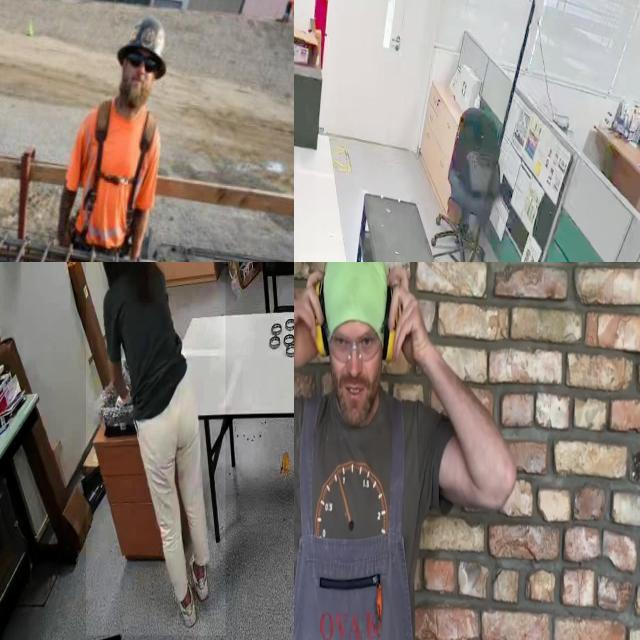Ear-protection: (306, 262, 409, 427)
Harness: (85, 100, 157, 244)
person: (294, 262, 520, 640), (86, 262, 226, 636)
shoes: (188, 543, 212, 605), (171, 573, 197, 625)
